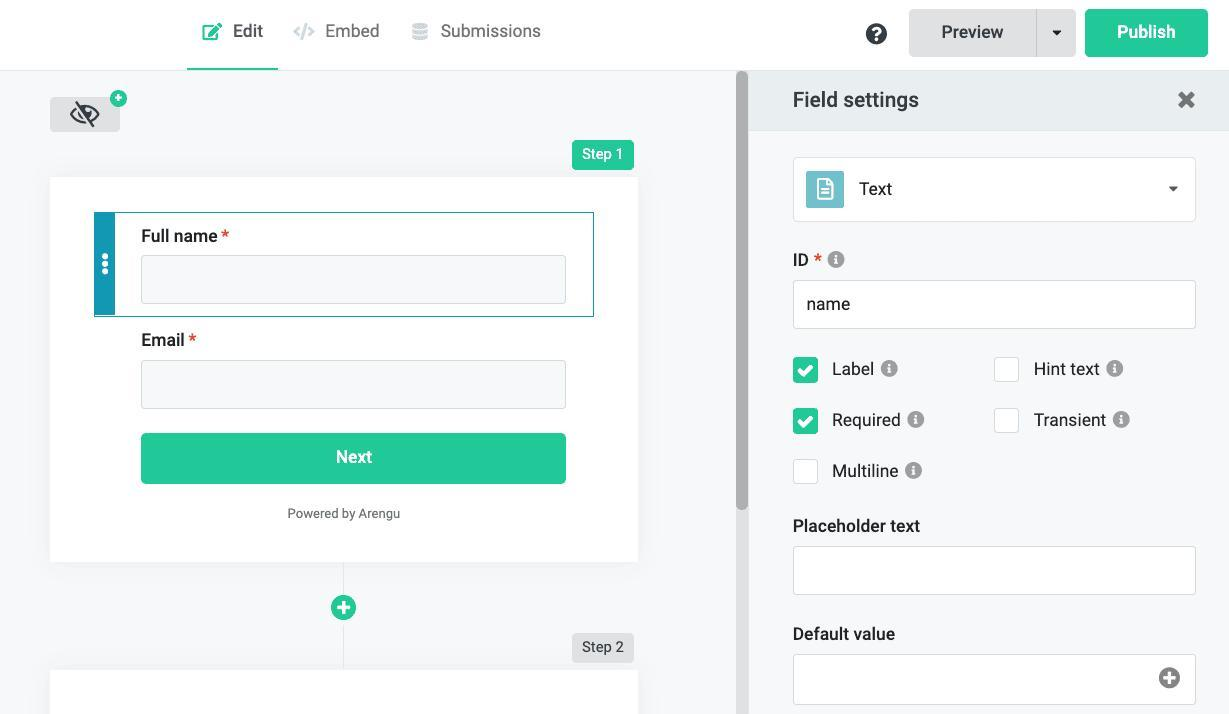button: (143, 434, 569, 487), (1085, 10, 1210, 58), (572, 142, 635, 171), (577, 636, 635, 659)
checkbox: (994, 357, 1020, 385), (793, 460, 820, 486), (994, 408, 1021, 434), (794, 408, 819, 436), (794, 358, 819, 383)
dropdown: (795, 157, 1197, 223), (910, 11, 1076, 58)
icon: (808, 172, 845, 210), (1158, 666, 1184, 690), (1177, 93, 1199, 111)
input: (793, 654, 1197, 707), (142, 361, 568, 411), (142, 257, 568, 305), (794, 547, 1197, 597), (795, 282, 1196, 329)
label: (792, 89, 921, 113), (793, 518, 923, 534), (791, 624, 898, 643), (442, 21, 544, 40), (143, 226, 231, 246), (284, 508, 408, 522), (834, 411, 901, 434), (1034, 361, 1104, 382), (1036, 413, 1108, 432), (833, 463, 900, 482), (328, 23, 383, 40), (142, 333, 204, 348), (831, 361, 877, 380), (861, 180, 895, 201), (230, 24, 266, 39), (787, 254, 816, 269)
